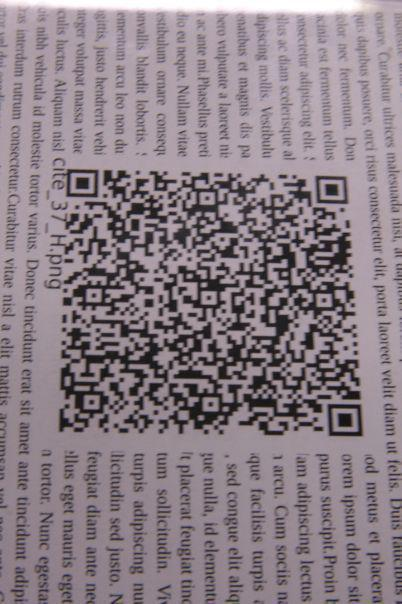qr_code: (59, 169, 363, 436)
